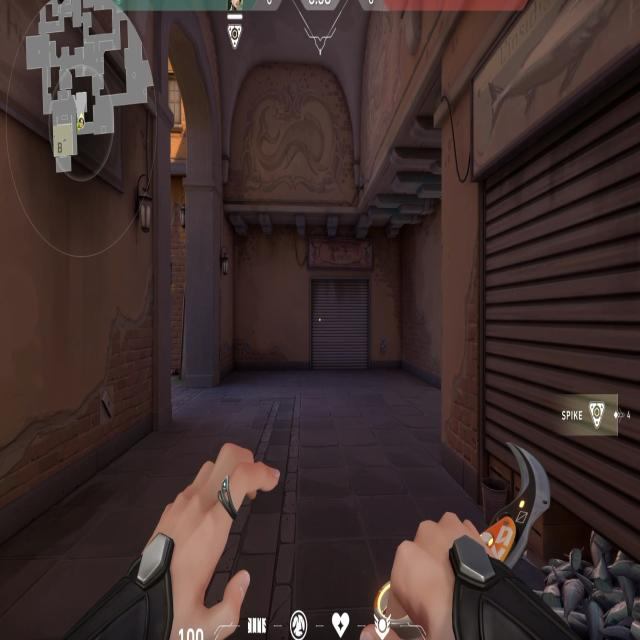B_Main_Corner: (429, 14, 640, 575)
